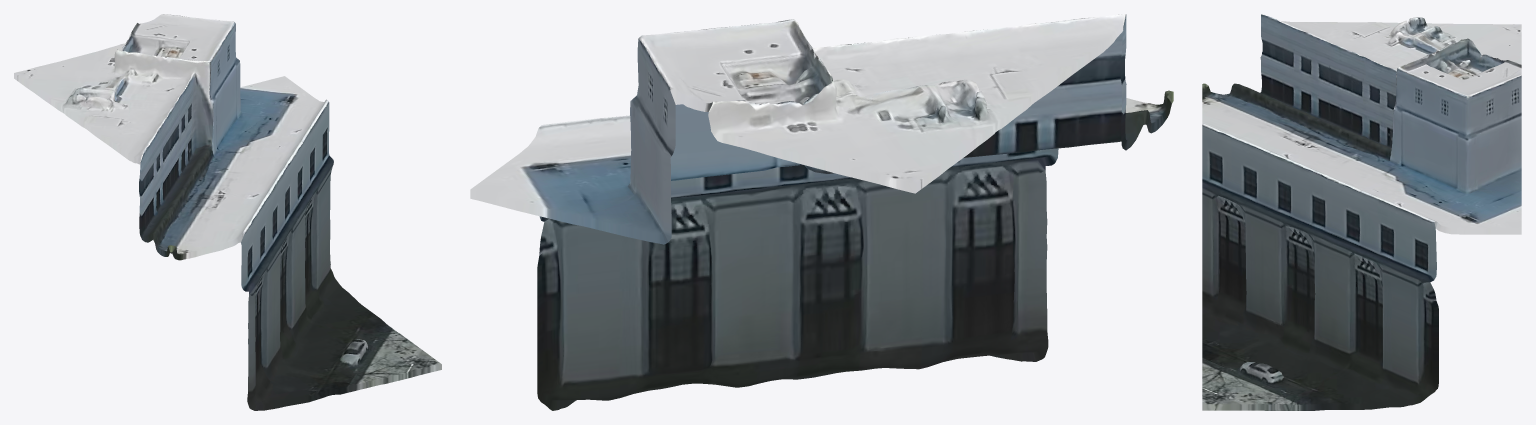
The model's file is z20-167792-405230-h0-yup-uvflip-v3-world.glb.
3 views of the same model, side by side, from view 1: azimuth 30°, elevation 25°; view 2: azimuth 150°, elevation 25°; view 3: azimuth 270°, elevation 25° (orthographic). The views are drawn at different scales.
Size of the model in its own units: 30.16 by 29 by 30.32.
1 material, 1 textured.
